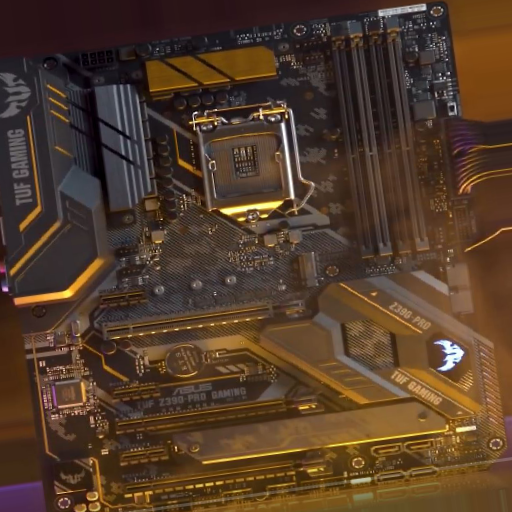CPU: (199, 99, 295, 227)
GPU: (112, 388, 326, 439), (103, 296, 308, 343), (129, 449, 335, 495)
MOTHERBOARD: (25, 1, 496, 511)
RAM: (328, 17, 431, 263)
SSD: (292, 252, 324, 289)
